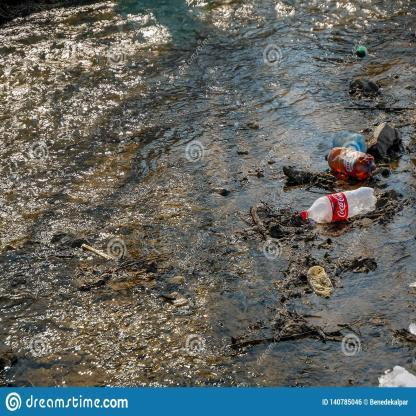plastic bottle: (301, 186, 378, 224), (325, 147, 375, 178)
